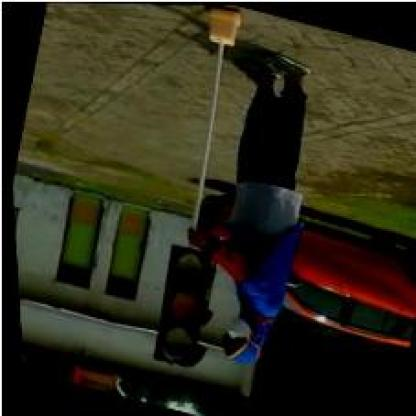yellow: (134, 242, 222, 374)
